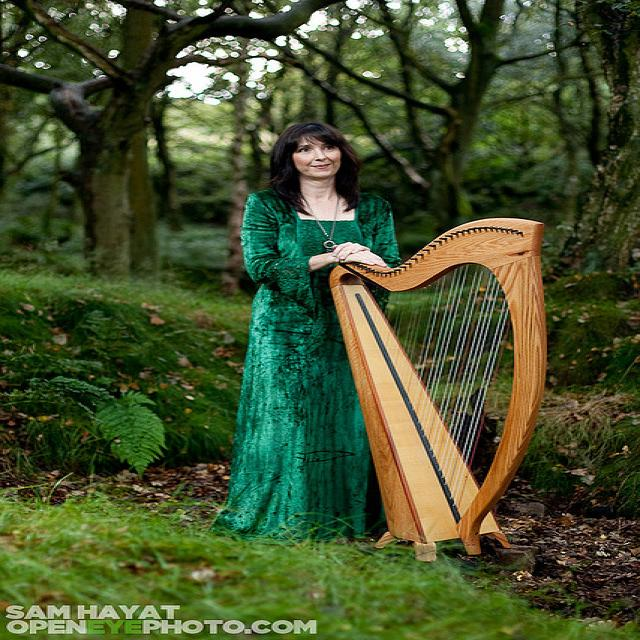harp: (316, 215, 558, 562)
